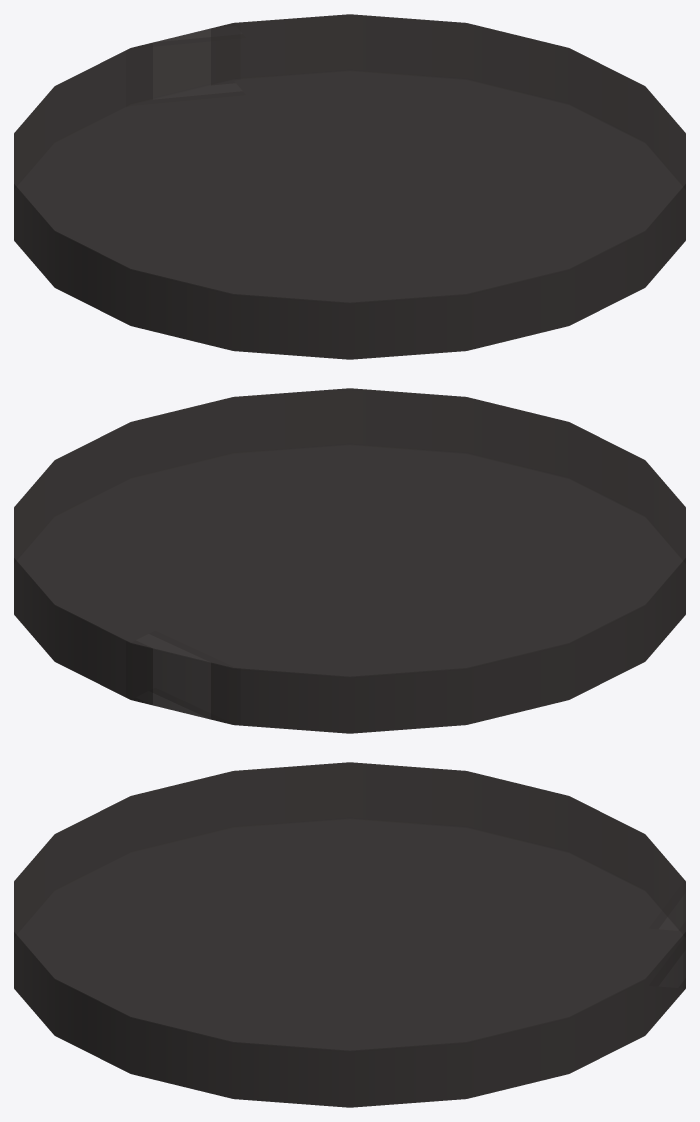
Rendered from eggShadow.FBX.
3 renders of one model, top to bottom at view 1: azimuth 30°, elevation 25°; view 2: azimuth 150°, elevation 25°; view 3: azimuth 270°, elevation 25°, orthographic.
Parts seen in each view (by area): view 1: Cylinder01; view 2: Cylinder01; view 3: Cylinder01.
Part boxes in pixels (x1=…): Cylinder01: x1=14, y1=14, x2=685, y2=359; Cylinder01: x1=14, y1=388, x2=685, y2=733; Cylinder01: x1=14, y1=762, x2=685, y2=1107.
Size of the model in its own units: 7.75 by 0.7166 by 7.63.
Materials: 1 (1 with a texture image).
